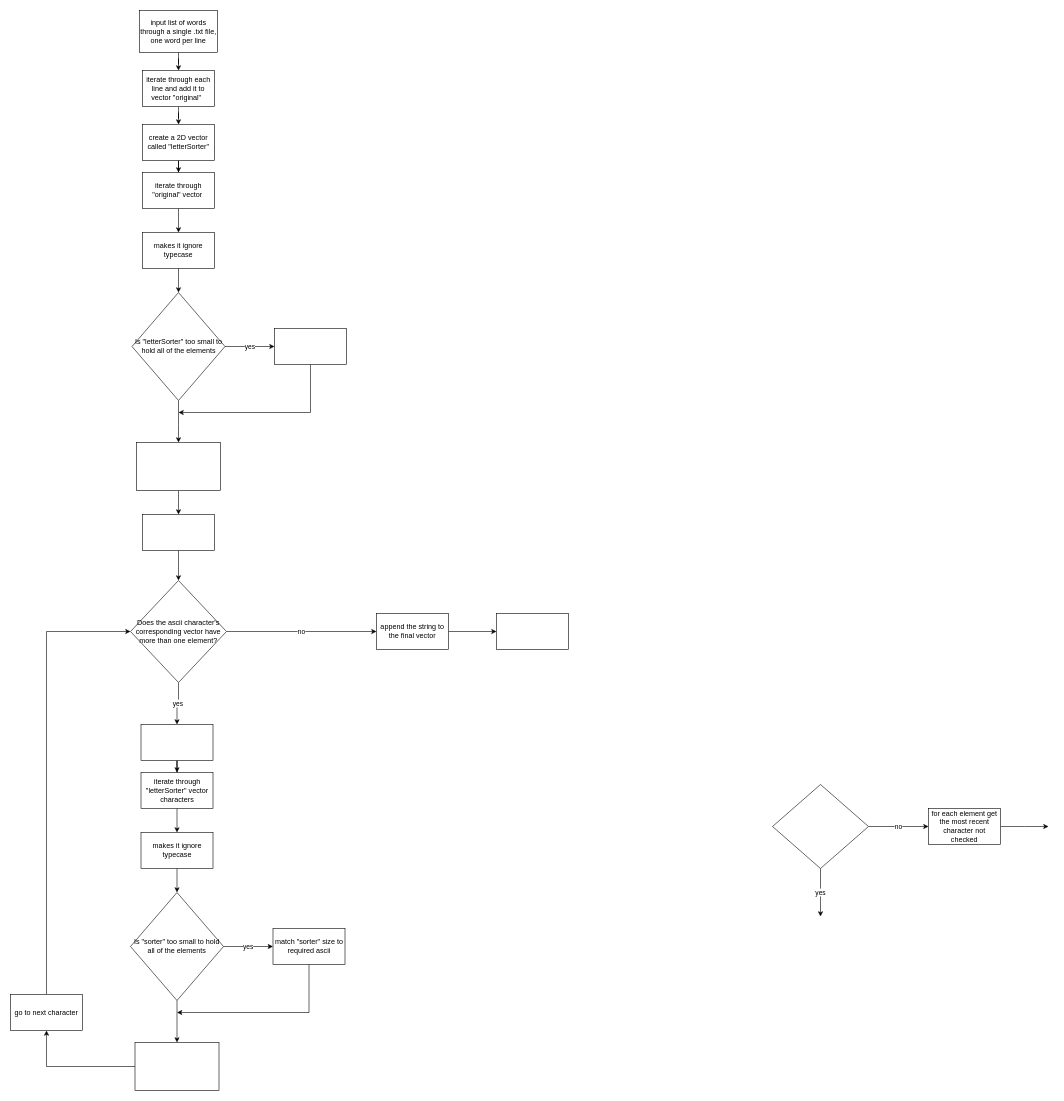
Some shapes in this 1064 by 1101 pixel diagram are drawn without their labels. The centre of each missing label's shape, as x and y in pixels:
Appends the word to the correct ascii letter vector in the "letterSorter": pixel 178 466
Appends the word to the correct ascii letter vector in the "sorter": pixel 176 1066
create a 2D vector called "sorter": pixel 176 742
is the last checked character the last character in the string?: pixel 820 826
iterate through each ascii vector in "letterSorter": pixel 178 532
match "letterSorter" size to required ascii: pixel 310 346
print final vector to standard input: pixel 532 631
